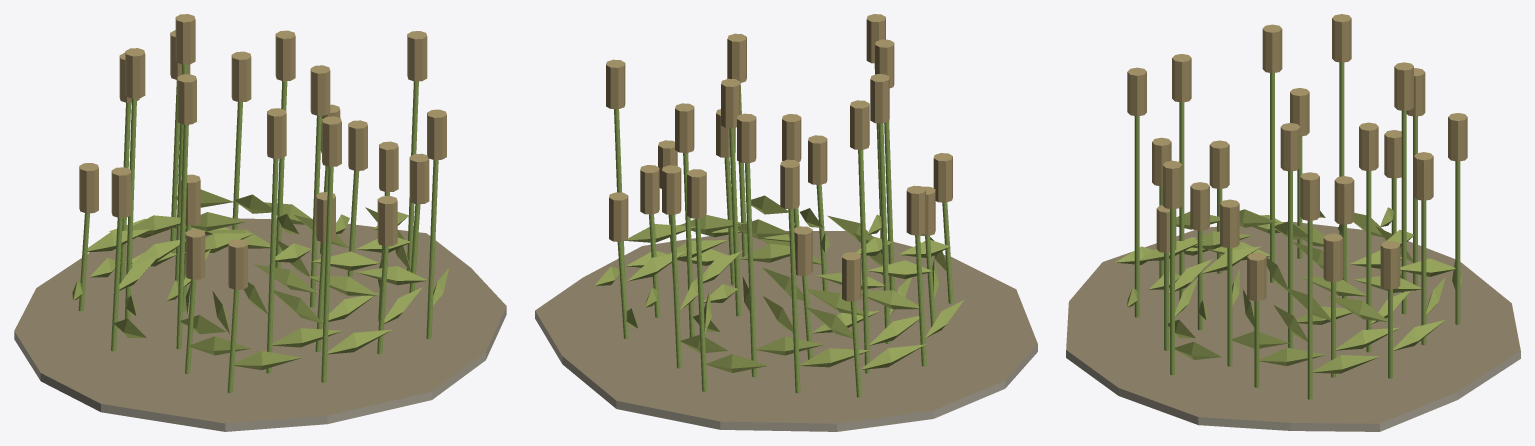
The model's file is Reed_Bed_Flourishing.glb.
The picture shows the model from 3 angles, left to right: view 1: azimuth 30°, elevation 25°; view 2: azimuth 150°, elevation 25°; view 3: azimuth 270°, elevation 25°; orthographic projection. The views are drawn at different scales.
Parts seen in each view (by area): view 1: Support, Growth; view 2: Support, Growth; view 3: Support, Growth.
Part boxes in pixels (left/top/right/bottom): Support: left=14, top=218, right=506, bottom=431; Growth: left=72, top=14, right=448, bottom=393; Support: left=535, top=231, right=1037, bottom=431; Growth: left=595, top=14, right=963, bottom=397; Support: left=1066, top=221, right=1520, bottom=431; Growth: left=1115, top=14, right=1467, bottom=399.
Size of the model in its own units: 2.68 by 1.65 by 2.54.
